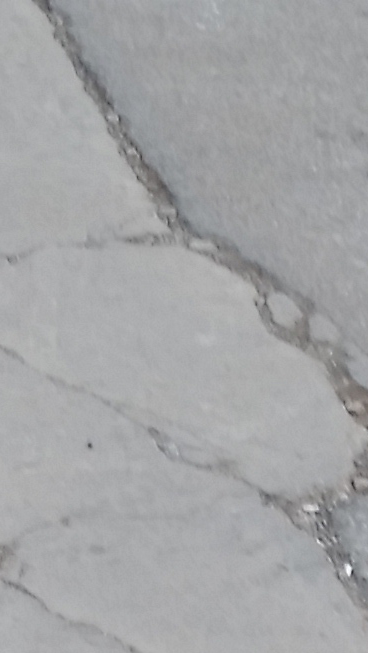A: (7, 1, 367, 625)
